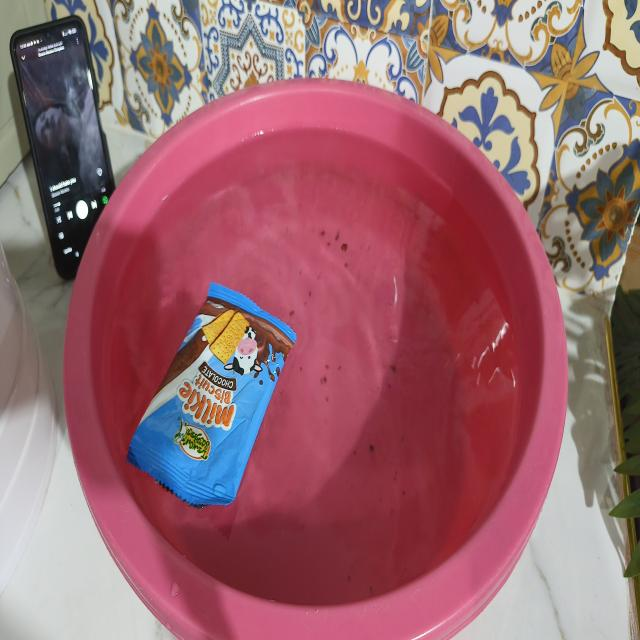Plastic Wrapper: (118, 264, 316, 542)
